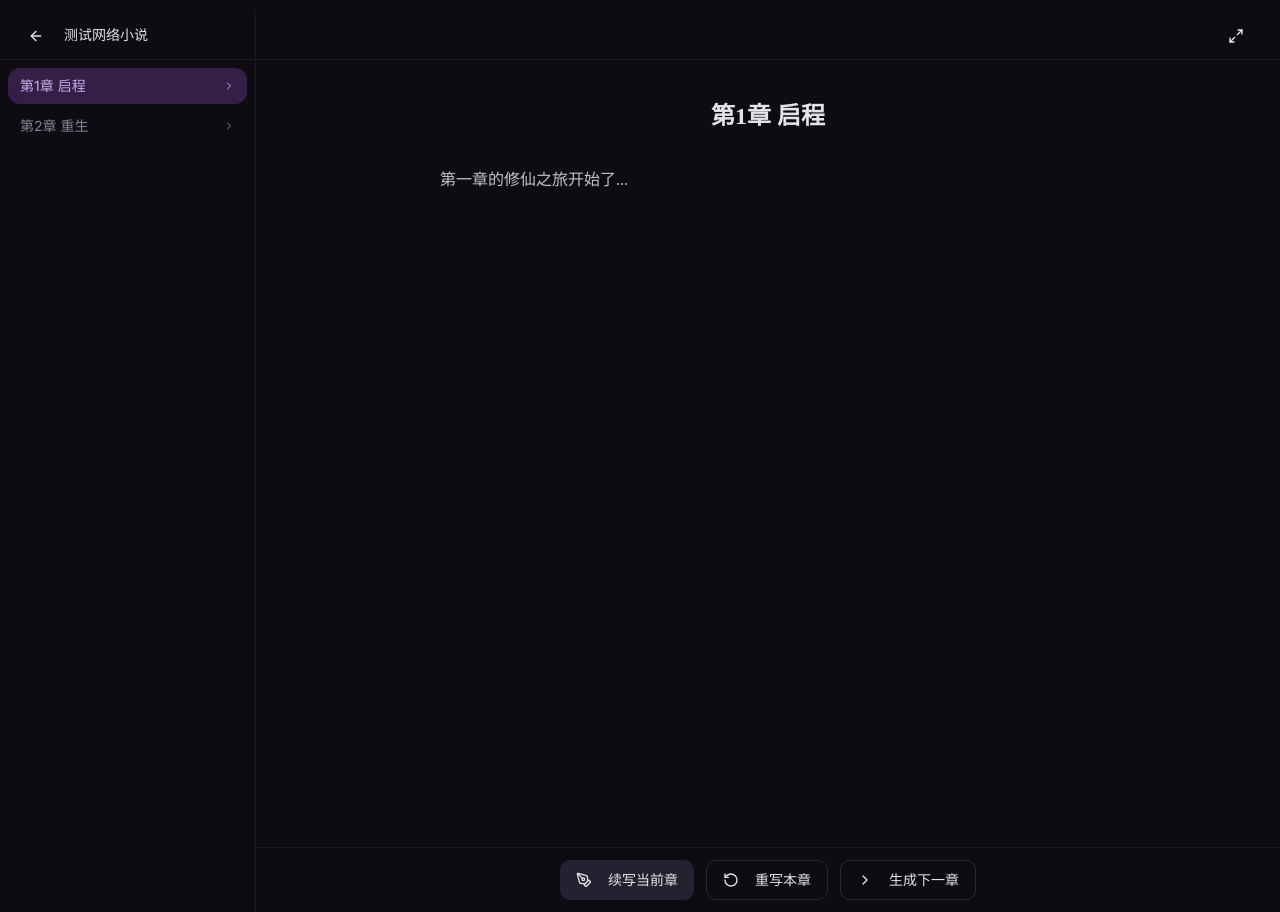
Scenario: NovelView 页面综合功能测试 › 应当能通过点击章节列表中的项切换选中的章节
Click the button "第2章 重生" at (128, 126), box left=8, top=108, right=247, bottom=144
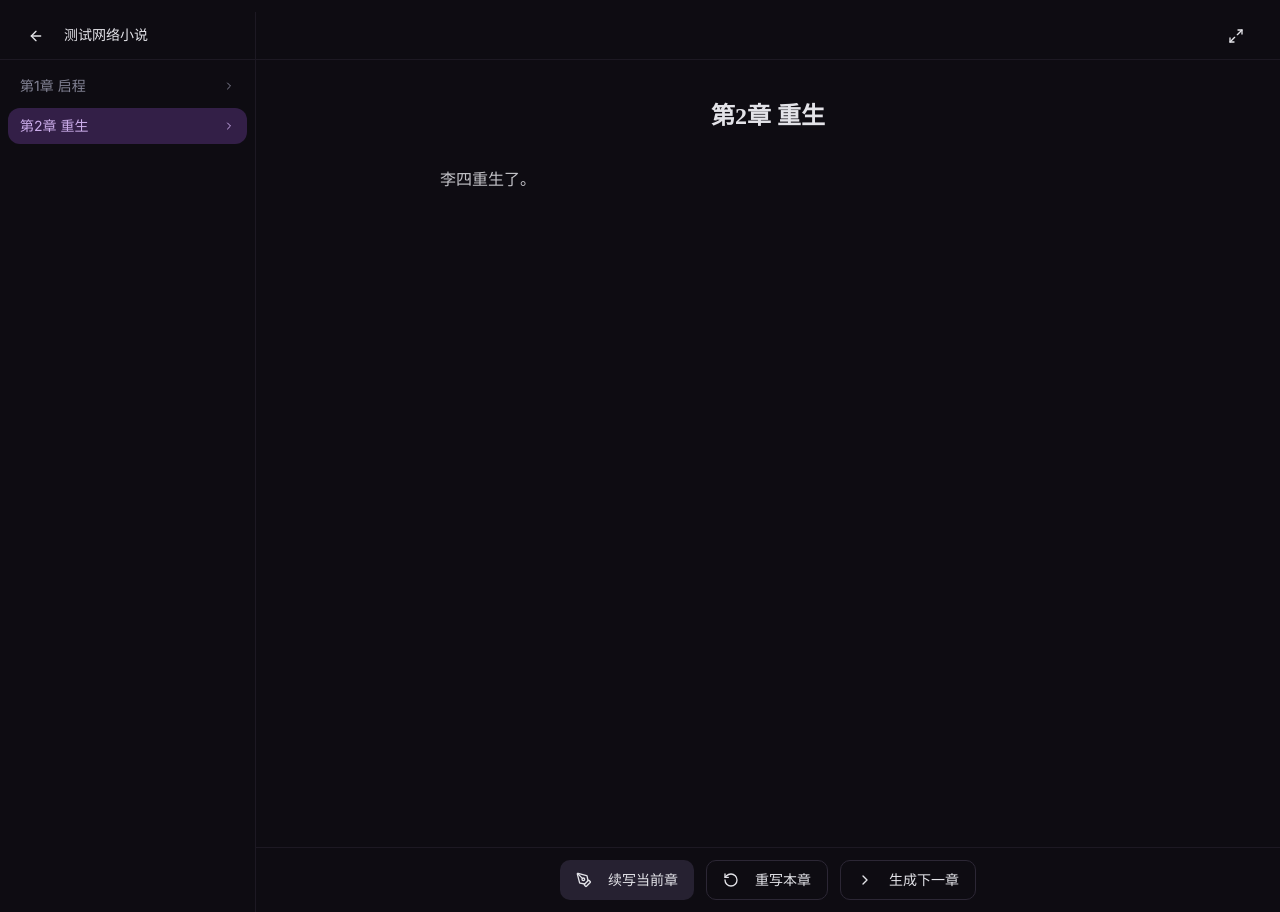
Check: the text "李四重生了。" is shown, box left=440, top=171, right=536, bottom=188
